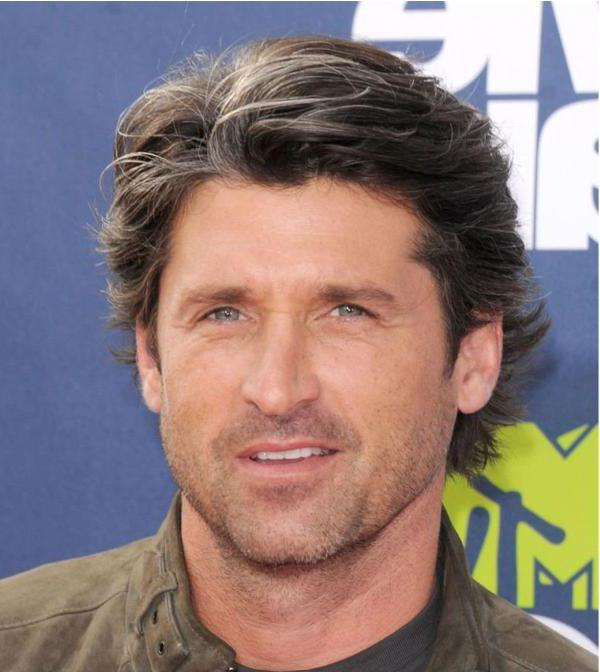Sober: (156, 175, 452, 563)
